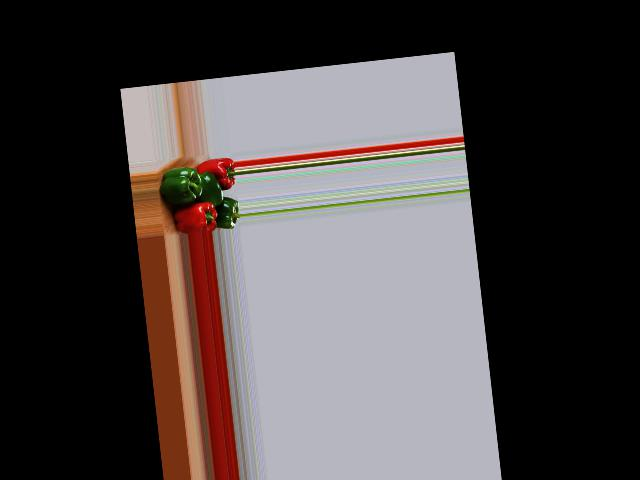bell_pepper: (168, 198, 217, 235)
